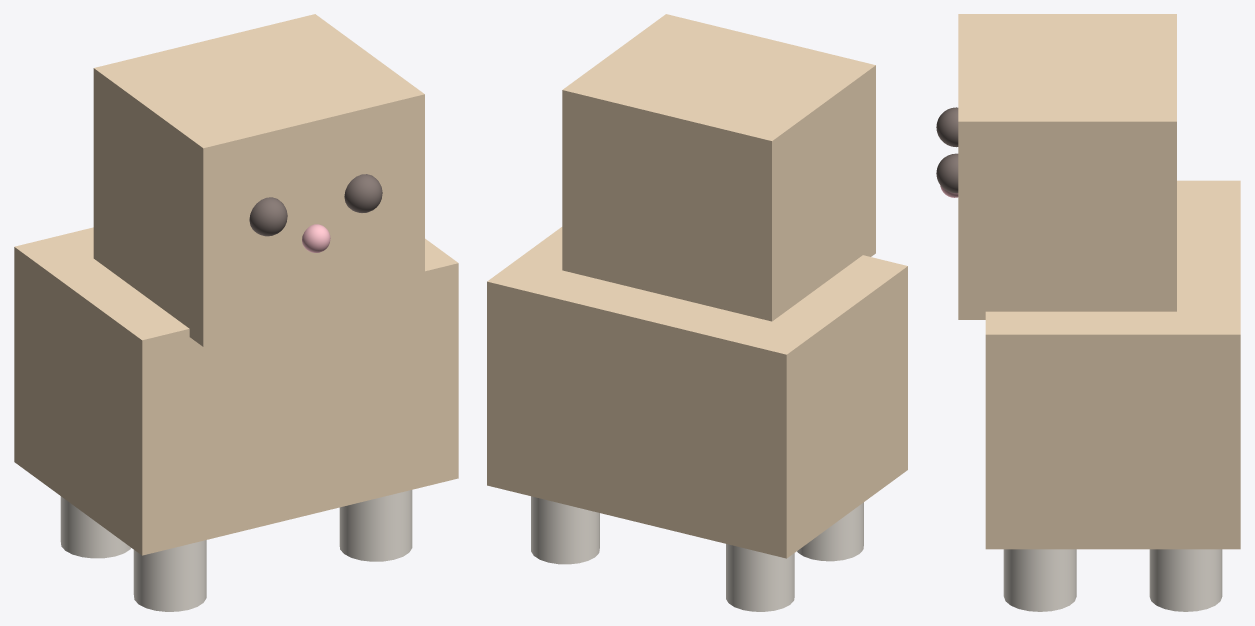
Rendered from cat.glb.
3 views of the same model, side by side, from view 1: azimuth 30°, elevation 25°; view 2: azimuth 150°, elevation 25°; view 3: azimuth 270°, elevation 25° (orthographic). The views are drawn at different scales.
Parts seen in each view (by area): view 1: cat; view 2: cat; view 3: cat.
Boxes of the visible parts, x1,y1,x2,y2 form: cat: [14, 14, 458, 611]; cat: [487, 14, 907, 611]; cat: [936, 14, 1240, 611].
Bounding box in the file's own units: 2 × 2.9 × 1.67.
